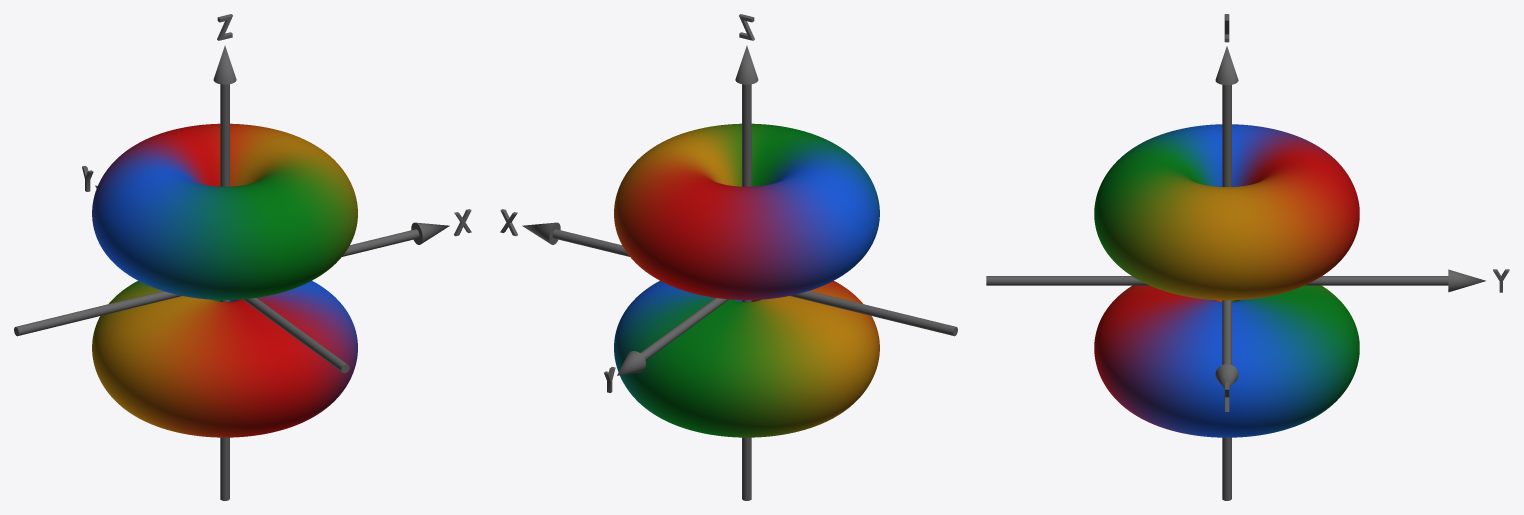
3 renders of one model, left to right at view 1: azimuth 30°, elevation 25°; view 2: azimuth 150°, elevation 25°; view 3: azimuth 270°, elevation 25°, orthographic.
Visible parts, largest first — view 1: Orbital, Axes; view 2: Orbital, Axes; view 3: Orbital, Axes.
Part boxes in pixels (bbox=[...]): Orbital: bbox=[92, 123, 357, 437]; Axes: bbox=[14, 14, 471, 500]; Orbital: bbox=[614, 123, 879, 437]; Axes: bbox=[500, 14, 957, 500]; Orbital: bbox=[1094, 124, 1359, 437]; Axes: bbox=[986, 14, 1509, 500].
Bounding box in the file's own units: 43.59 × 44.21 × 43.49.
